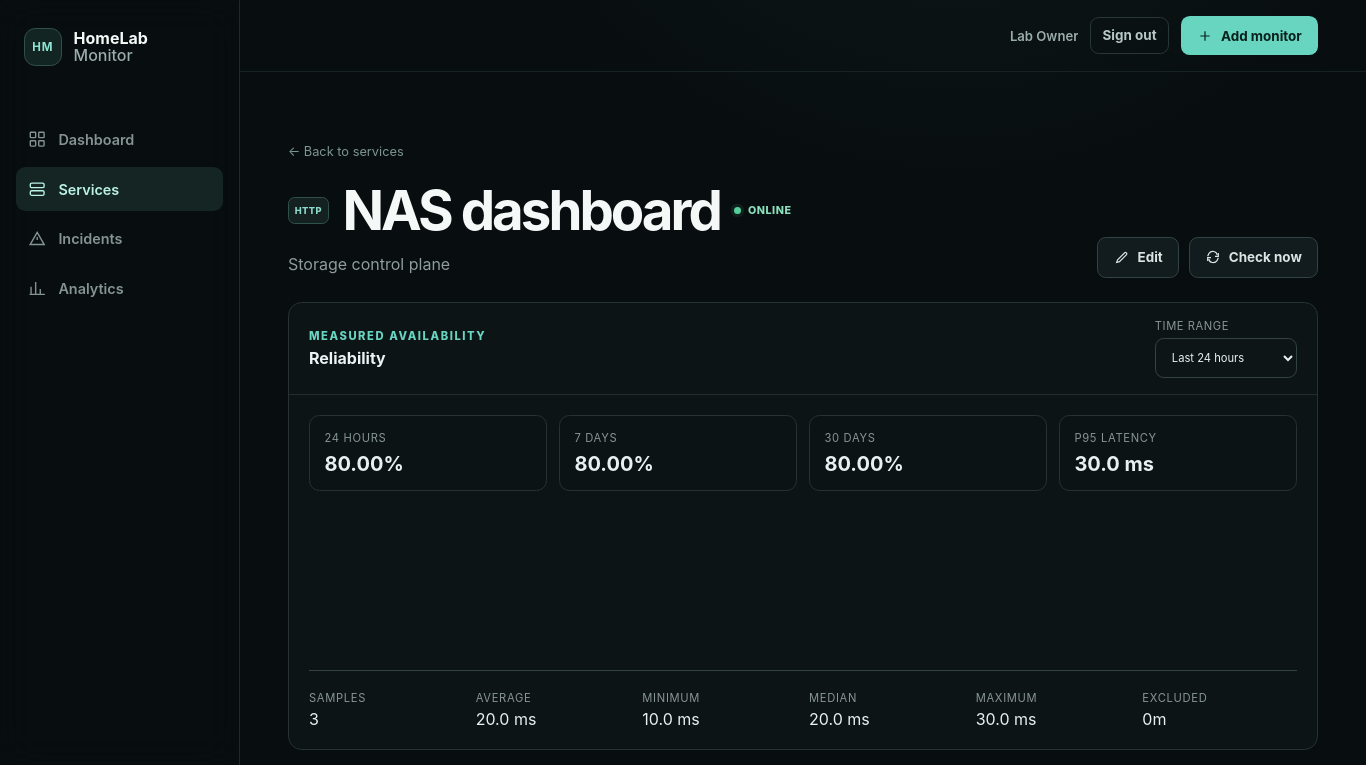
Test: monitoring dashboard › shows detail checks and supports a manual check
Check: the heading "NAS dashboard" is shown, box 342,183 -> 720,238
Click the button "Check now": click(1253, 257) 1189,237 -> 1318,278
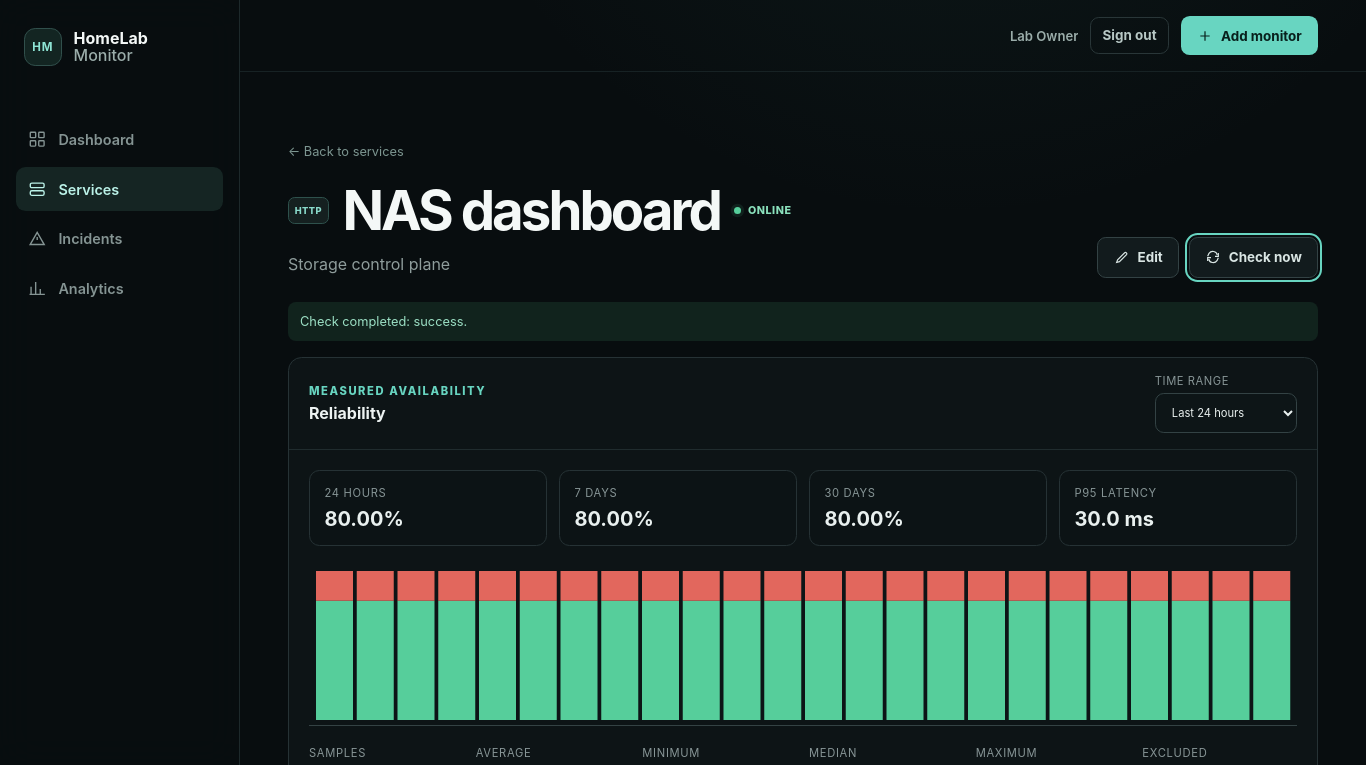
Check: the text "Check completed: success." is shown, box 288,302 -> 1318,341
